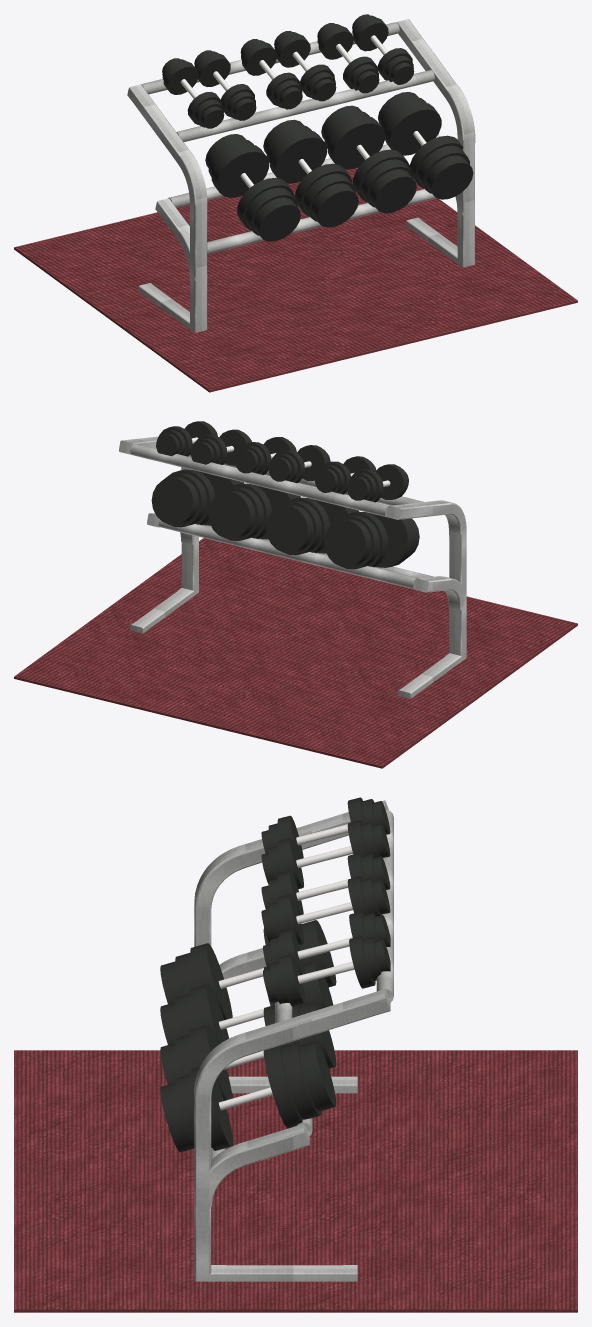
The model's file is dumbbells obj.obj.
3 views of the same model, one above another, from view 1: azimuth 30°, elevation 25°; view 2: azimuth 150°, elevation 25°; view 3: azimuth 270°, elevation 25° (orthographic). The views are drawn at different scales.
Parts seen in each view (by area): view 1: Box001, _Sweep__1413_, _Sweep__1728_, _Revolve__1877_, _Revolve__1850_, _Revolve__1823_, _Revolve__1796_, _Revolve__1866_, _Revolve__1812_, _Revolve__1839_, _Revolve__1785_, _Extrusion__1781_ (+16 smaller); view 2: Box001, _Sweep__1413_, _Extrusion__1776_, _Revolve__1866_, _Revolve__1812_, _Revolve__1839_, _Revolve__1785_, _Extrusion__1771_, _Sweep__1728_, _Revolve__1877_, _Revolve__1947_, _Revolve__1893_ (+10 smaller); view 3: Box001, _Sweep__1728_, _Sweep__1413_, _Revolve__1785_, _Revolve__1796_, _Sweep__1747_, _Revolve__1877_, _Revolve__1850_, _Revolve__1823_, _Revolve__2044_, _Revolve__2028_, _Extrusion__1776_ (+14 smaller).
Boxes of the visible parts, x1,y1,x2,y2 form: Box001: (14,167,577,392); _Sweep__1413_: (127,84,207,332); _Sweep__1728_: (397,19,475,267); _Revolve__1877_: (237,178,300,241); _Revolve__1850_: (295,163,358,227); _Revolve__1823_: (353,149,416,213); _Revolve__1796_: (409,135,473,199); _Revolve__1866_: (205,134,268,197); _Revolve__1812_: (321,105,384,169); _Revolve__1839_: (263,119,326,183); _Revolve__1785_: (378,92,441,155); _Extrusion__1781_: (176,70,434,141); Box001: (14,538,577,768); _Sweep__1413_: (386,500,466,698); _Extrusion__1776_: (130,443,388,516); _Revolve__1866_: (324,511,387,569); _Revolve__1812_: (208,483,271,540); _Revolve__1839_: (266,497,329,555); _Revolve__1785_: (151,469,215,527); _Extrusion__1771_: (158,519,418,589); _Sweep__1728_: (119,436,198,633); _Revolve__1877_: (369,513,419,567); _Revolve__1947_: (268,450,304,483); _Revolve__1893_: (347,469,383,502); Box001: (14,1050,577,1312); _Sweep__1728_: (194,989,390,1281); _Sweep__1413_: (194,800,388,1093); _Revolve__1785_: (263,1041,336,1128); _Revolve__1796_: (160,1067,232,1152); _Sweep__1747_: (195,1123,309,1207); _Revolve__1877_: (160,943,232,1019); _Revolve__1850_: (160,984,228,1044); _Revolve__1823_: (160,1024,232,1100); _Revolve__2044_: (263,954,305,1006); _Revolve__2028_: (349,936,390,988); _Extrusion__1776_: (376,809,393,1002).
Size of the model in its own units: 182 by 105 by 167.
